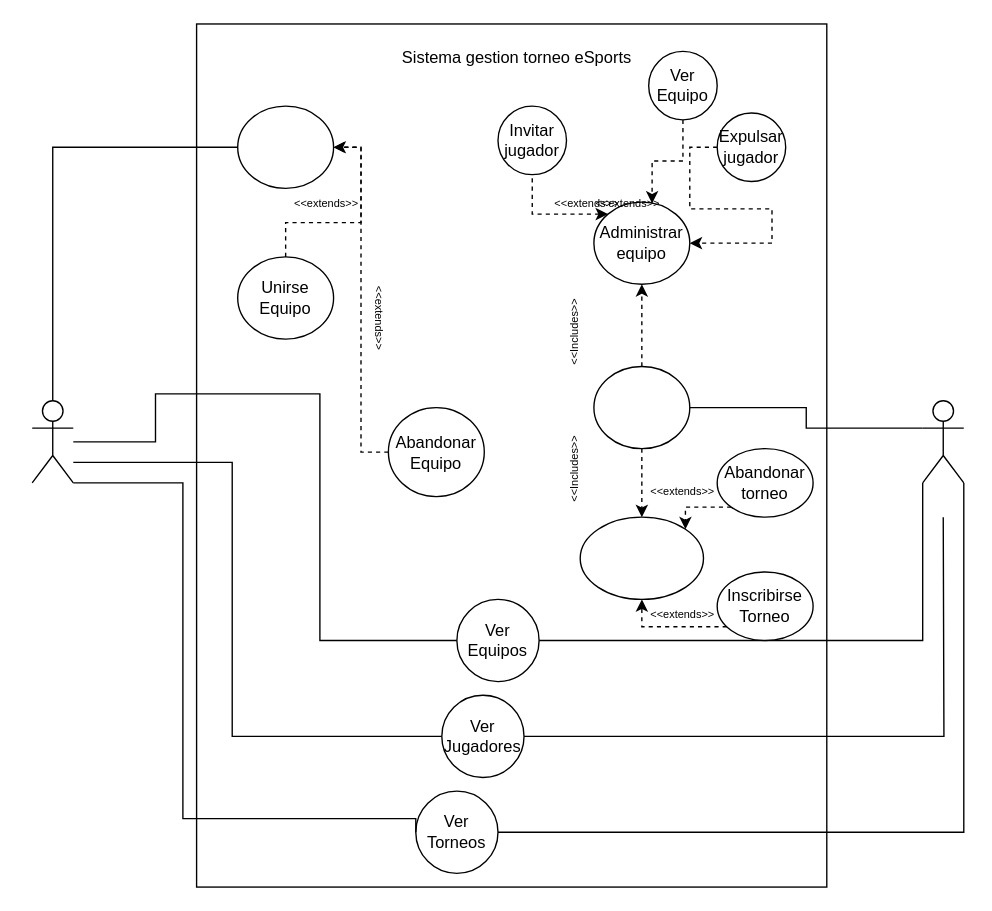
Some shapes in this 992 by 911 pixel diagram are drawn without their labels. The shapes that lost their labels are listed below. From the top down, each one's centre as x and y in pixels, then its label:
pixel 285 146: Login
pixel 641 407: Registro
pixel 52 441: Jugador
pixel 942 441: Equipo
pixel 641 557: Administrar Torneos del Equipo
